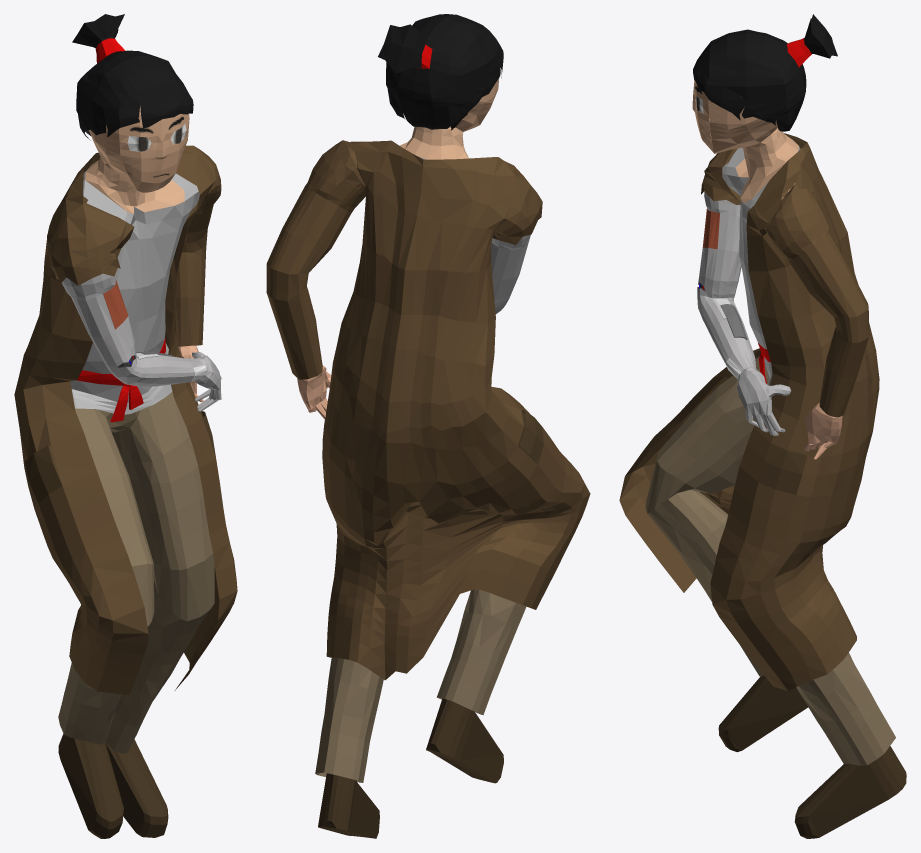
File: One_RF_000019.obj
3 views of the same model, side by side, from view 1: azimuth 30°, elevation 25°; view 2: azimuth 150°, elevation 25°; view 3: azimuth 270°, elevation 25° (orthographic). The views are drawn at different scales.
Visible parts, largest first — view 1: Hair_Cube.004; view 2: Hair_Cube.004; view 3: Hair_Cube.004.
Boxes of the visible parts, bbox=[...] form: Hair_Cube.004: bbox=[14, 14, 237, 838]; Hair_Cube.004: bbox=[266, 14, 590, 838]; Hair_Cube.004: bbox=[619, 14, 906, 838].
Size of the model in its own units: 1.1 by 3.95 by 1.29.
